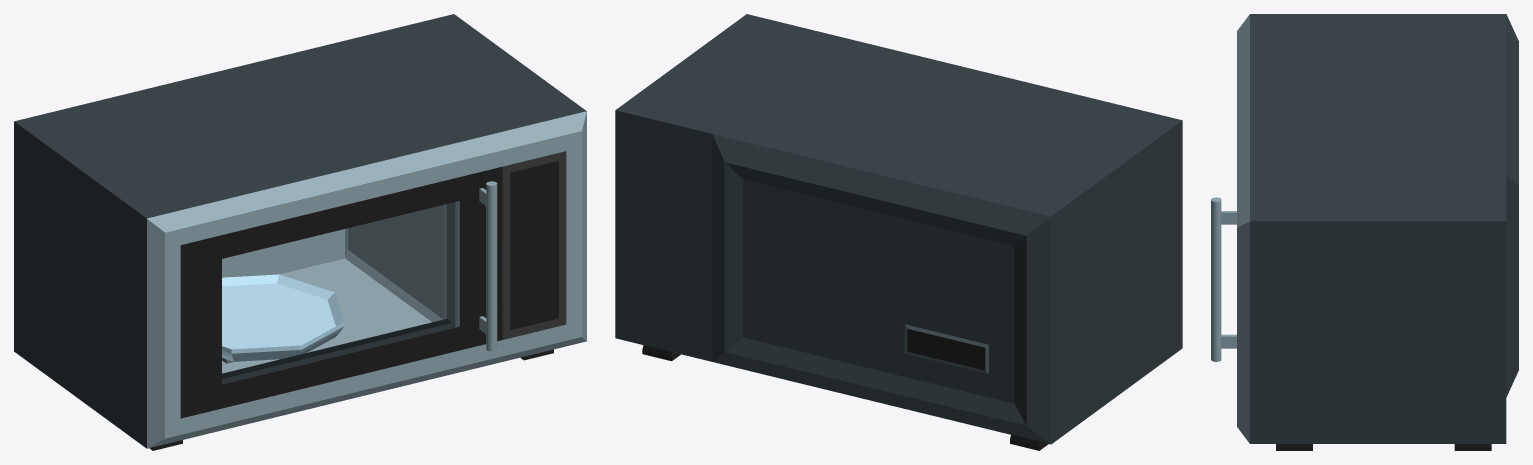
Rendered from MicrowaveOven.fbx.
3 views of the same model, side by side, from view 1: azimuth 30°, elevation 25°; view 2: azimuth 150°, elevation 25°; view 3: azimuth 270°, elevation 25° (orthographic). The views are drawn at different scales.
Visible parts, largest first — view 1: Microwave_Oven; view 2: Microwave_Oven; view 3: Microwave_Oven.
Boxes of the visible parts, x1,y1,x2,y2 form: Microwave_Oven: (14, 14, 586, 450); Microwave_Oven: (615, 14, 1182, 450); Microwave_Oven: (1211, 14, 1518, 450).
Bounding box in the file's own units: 60.44 × 32.43 × 37.9.
